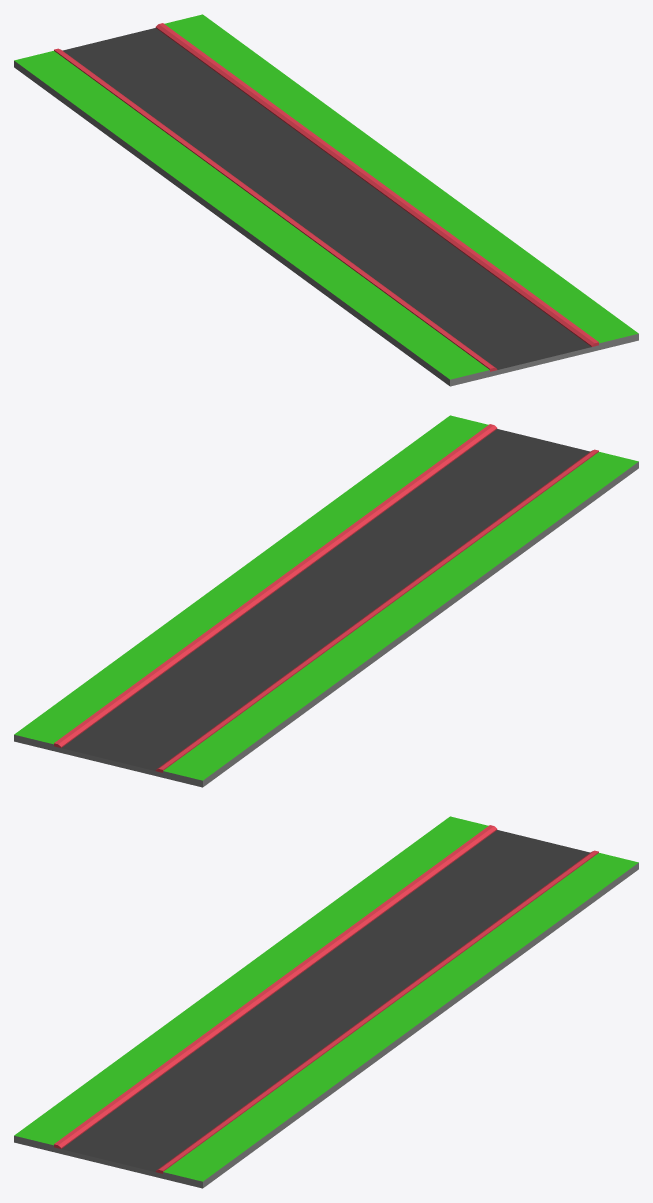
The model's file is straight_long.fbx.
3 views of the same model, one above another, from view 1: azimuth 30°, elevation 25°; view 2: azimuth 150°, elevation 25°; view 3: azimuth 330°, elevation 25° (orthographic).
Parts seen in each view (by area): view 1: straight_long; view 2: straight_long; view 3: straight_long.
Boxes of the visible parts, box(x1,y1,x2,y2) form: straight_long: box(14, 14, 638, 386); straight_long: box(14, 415, 638, 787); straight_long: box(14, 816, 638, 1188).
Size of the model in its own units: 2000 by 80.76 by 8000.
